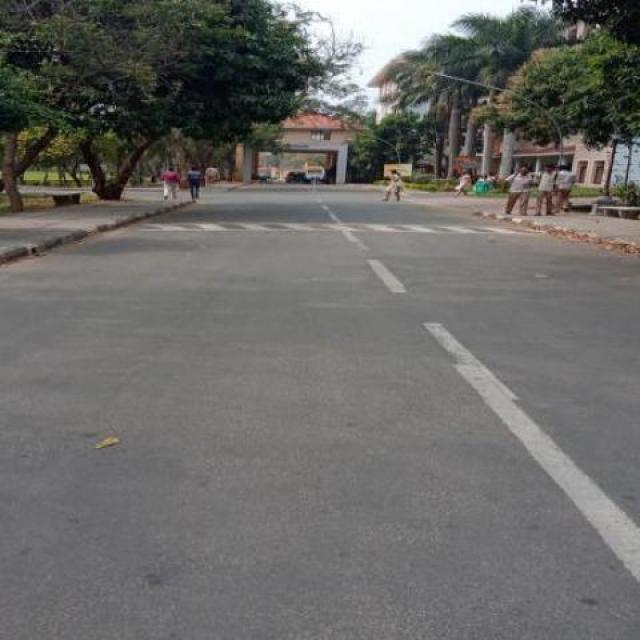Speed Bump: (119, 220, 546, 233)
